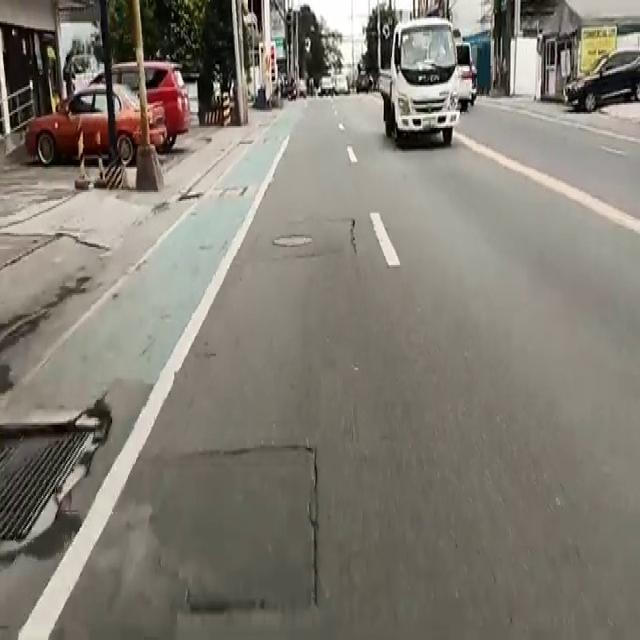car: (36, 89, 166, 169), (561, 49, 640, 116)
truck: (374, 20, 466, 154)
